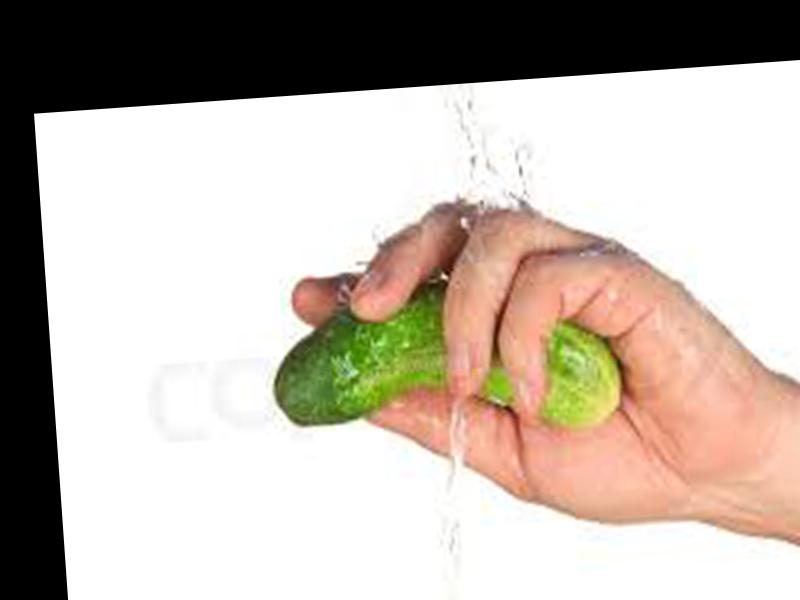Cucumber: (266, 279, 621, 444)
